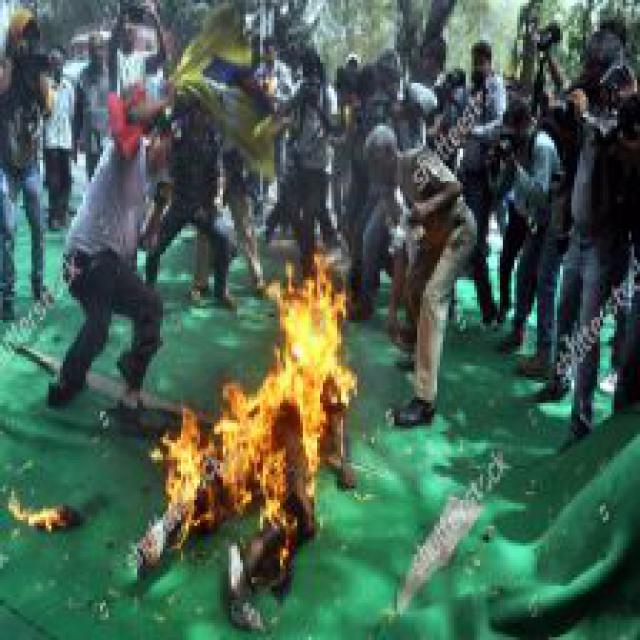fire: (154, 246, 363, 531)
